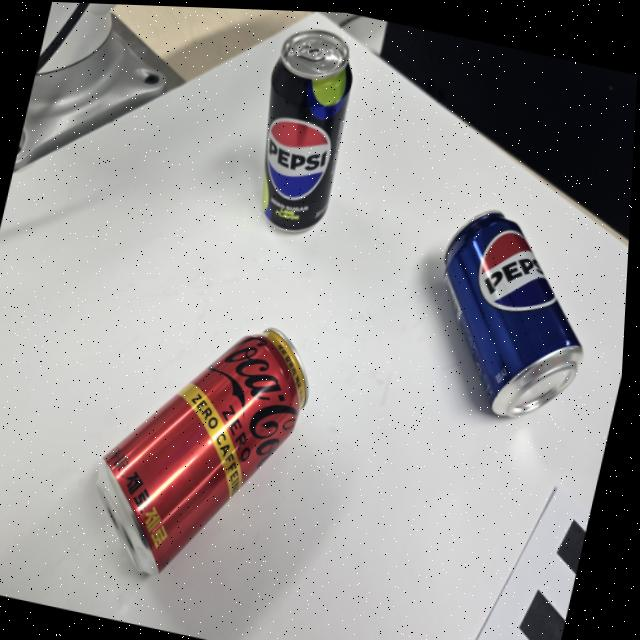can_coke_decaf: (94, 326, 309, 575)
can_pepsi: (444, 208, 583, 419)
can_pepsi_zero: (260, 24, 355, 232)
